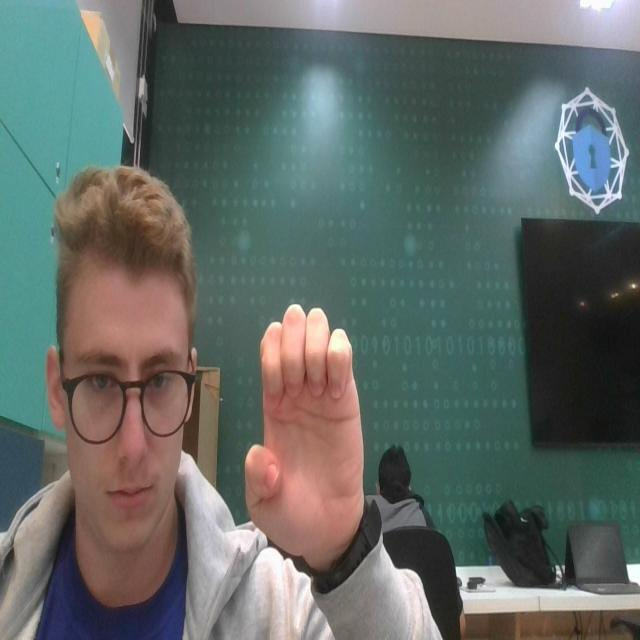E: (241, 299, 391, 583)
